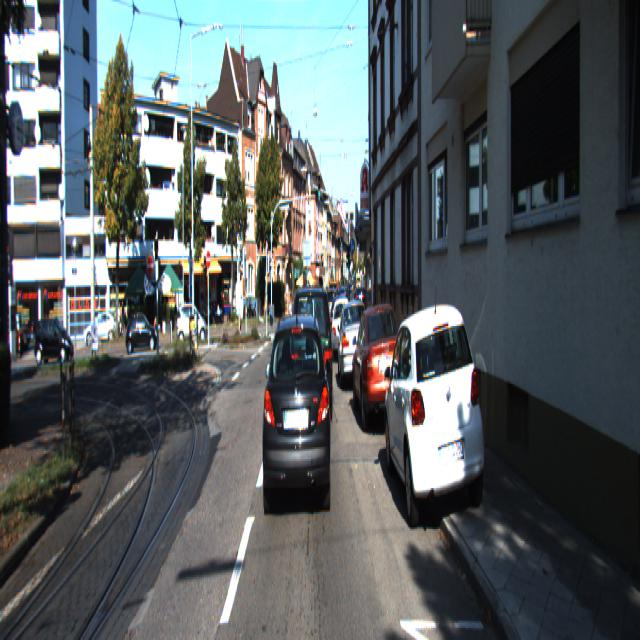Car: (383, 296, 488, 544), (261, 302, 332, 524), (351, 303, 408, 443), (290, 279, 332, 428), (336, 298, 371, 397), (33, 315, 76, 368), (125, 311, 158, 355), (176, 304, 207, 346), (331, 298, 351, 362)
